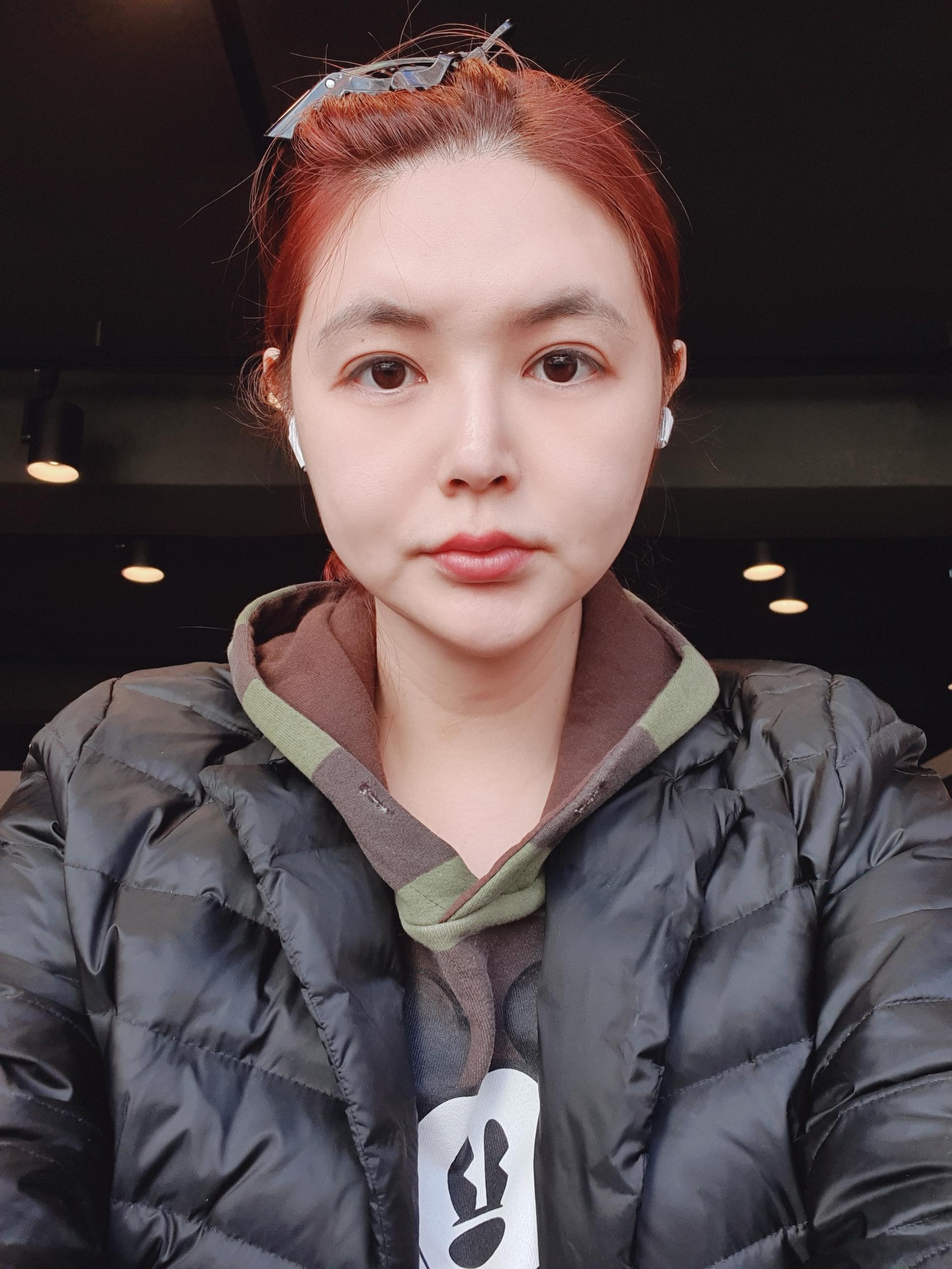earphone: (271, 405, 316, 471), (646, 391, 680, 452)
